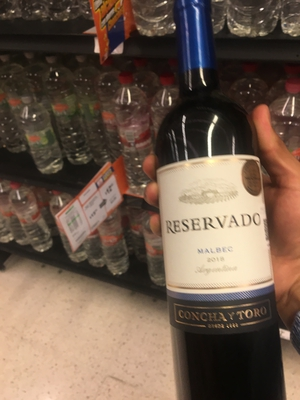reservado malbec: (150, 12, 300, 374)
